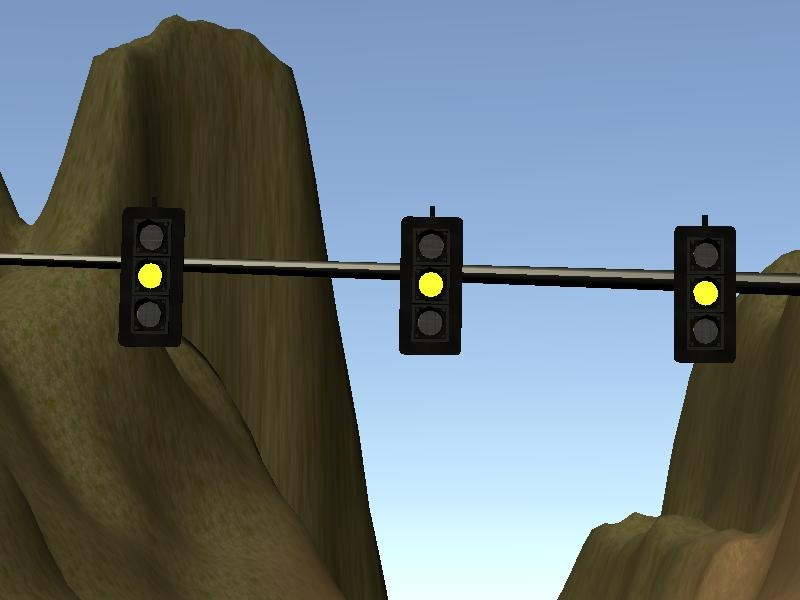yellow: (114, 203, 186, 352), (396, 212, 467, 359), (669, 221, 739, 369)
